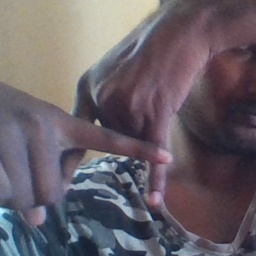H: (48, 81, 179, 211)
